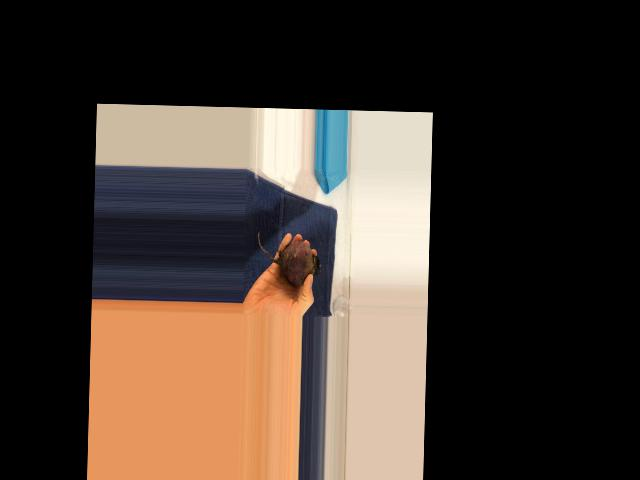beet: (256, 230, 321, 287)
